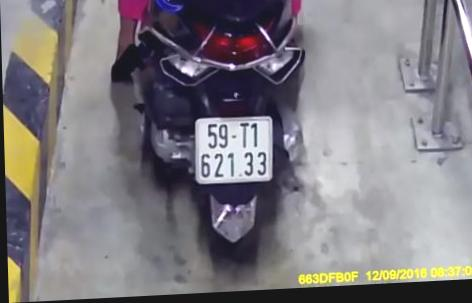License_Plate: (190, 111, 278, 189)
